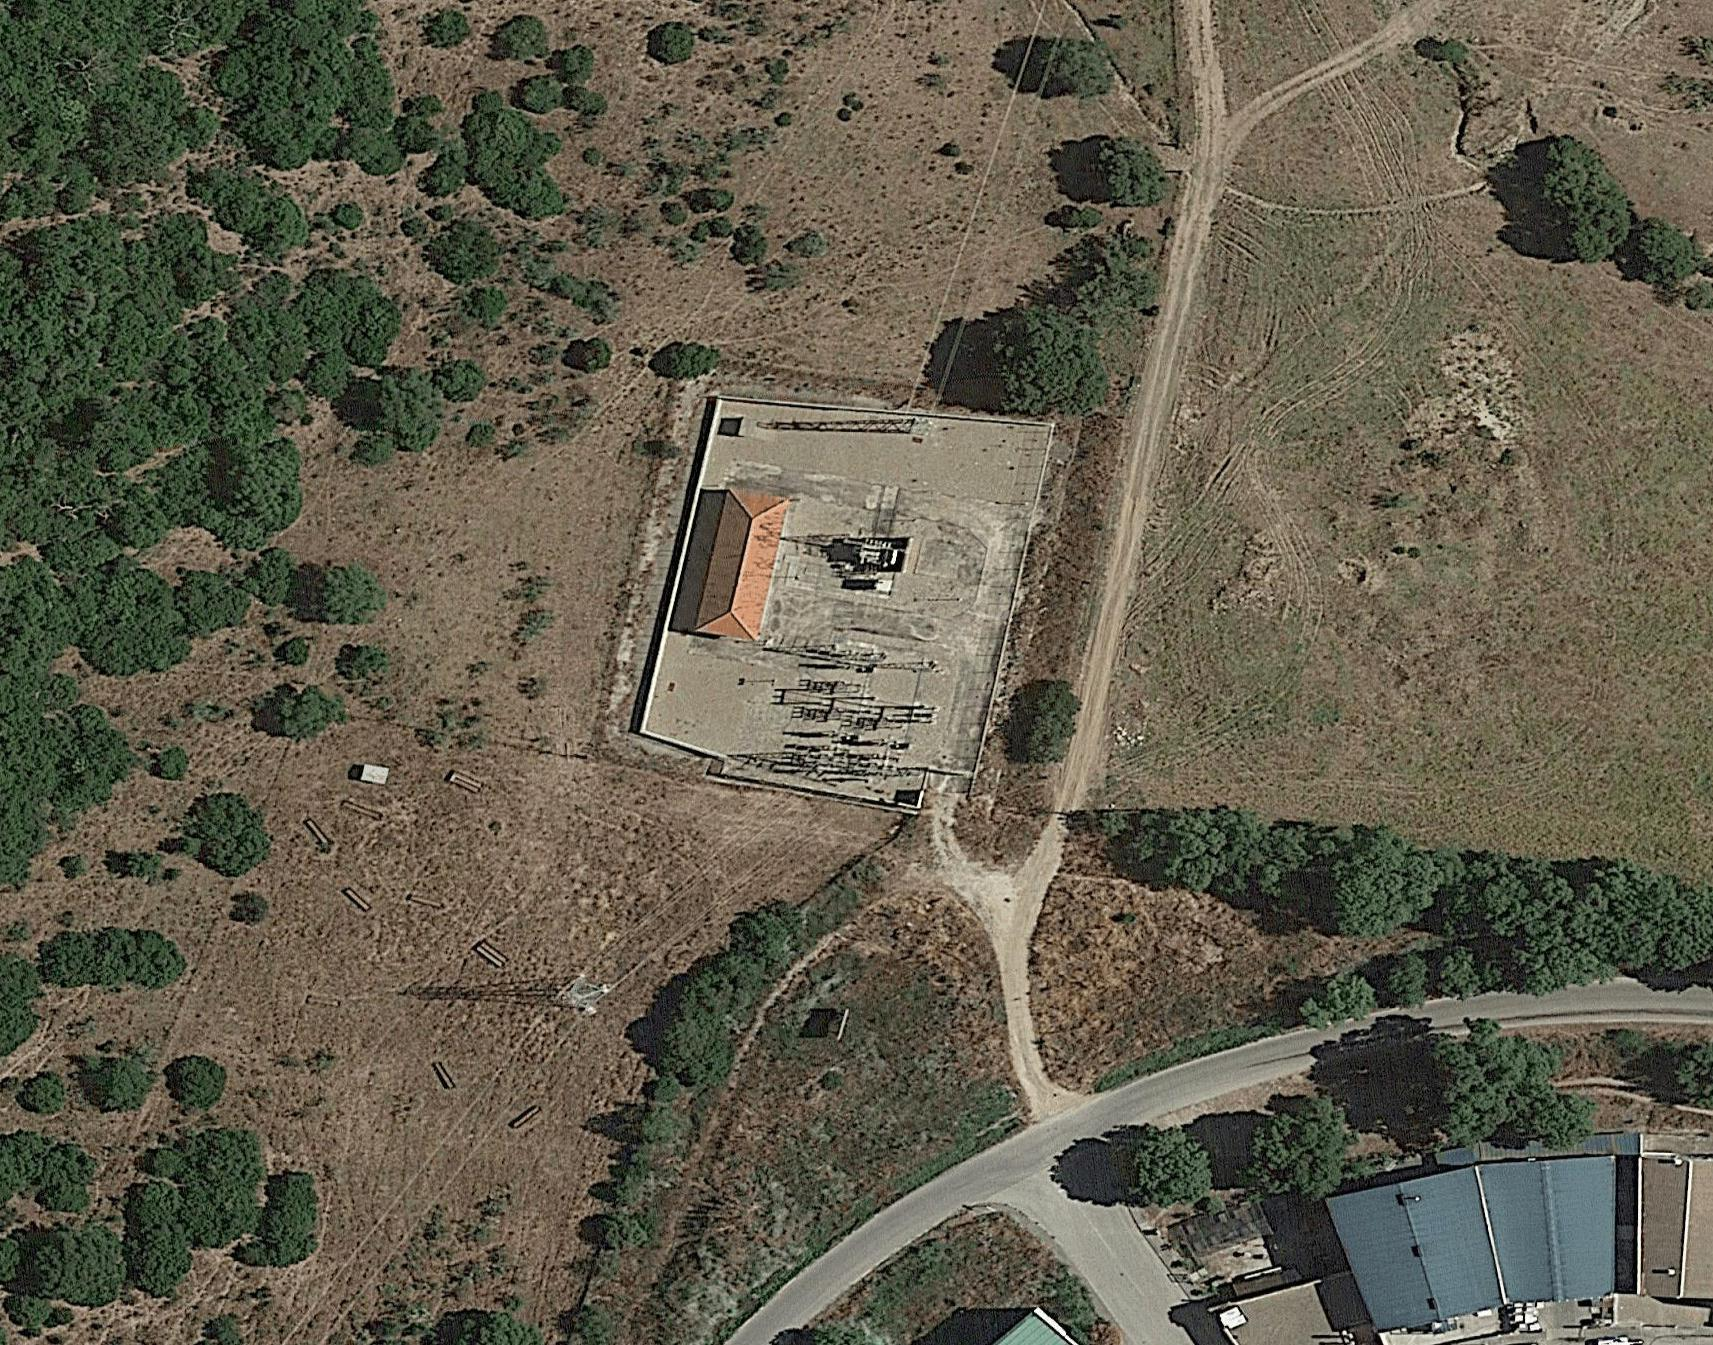substation: (733, 526, 944, 791)
